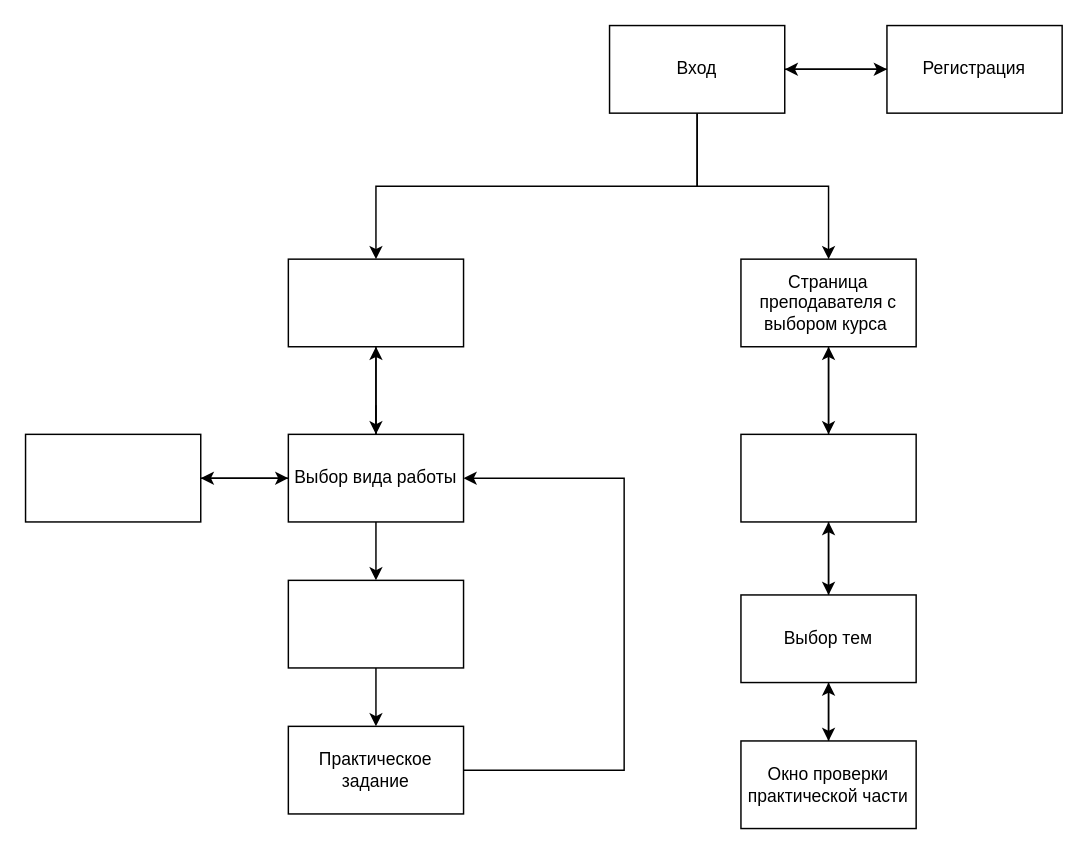
Image size: 1088x854. Some labels were removed from this diagram. Here are the shapes that lost their labels. From the top down, the centre of each, then its label:
the point at 375,302: Страница студента с выбором темы
the point at 112,477: Теория
the point at 827,477: ФИО студентов
the point at 375,623: Тесты
